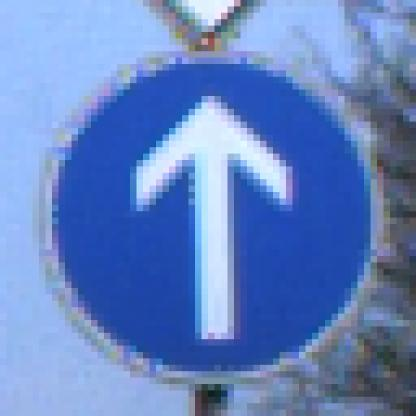AheadOnly: (34, 39, 385, 385)
